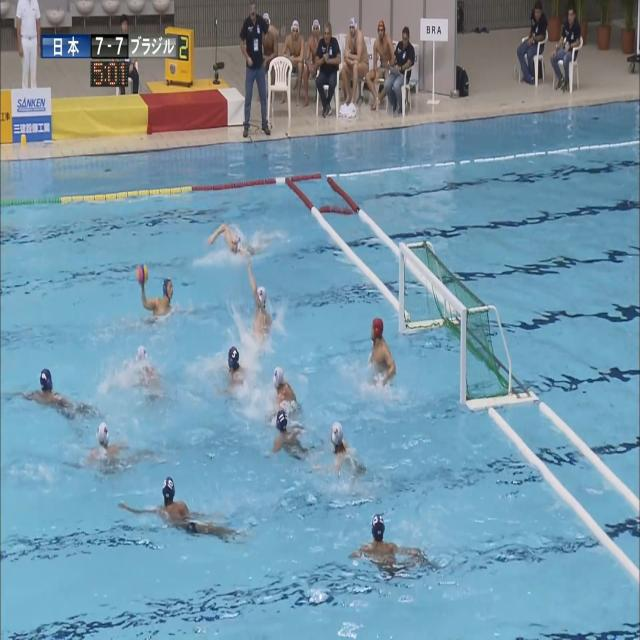ball: (136, 264, 147, 284)
